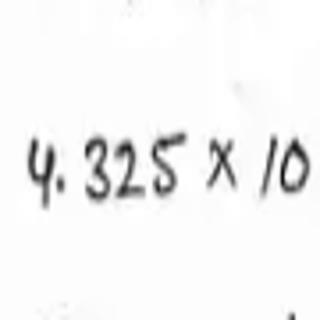.: (50, 174, 71, 193)
0: (279, 137, 309, 194)
1: (265, 132, 274, 192)
2: (114, 137, 144, 196)
3: (82, 134, 112, 203)
4: (28, 131, 58, 207)
5: (148, 131, 188, 199)
